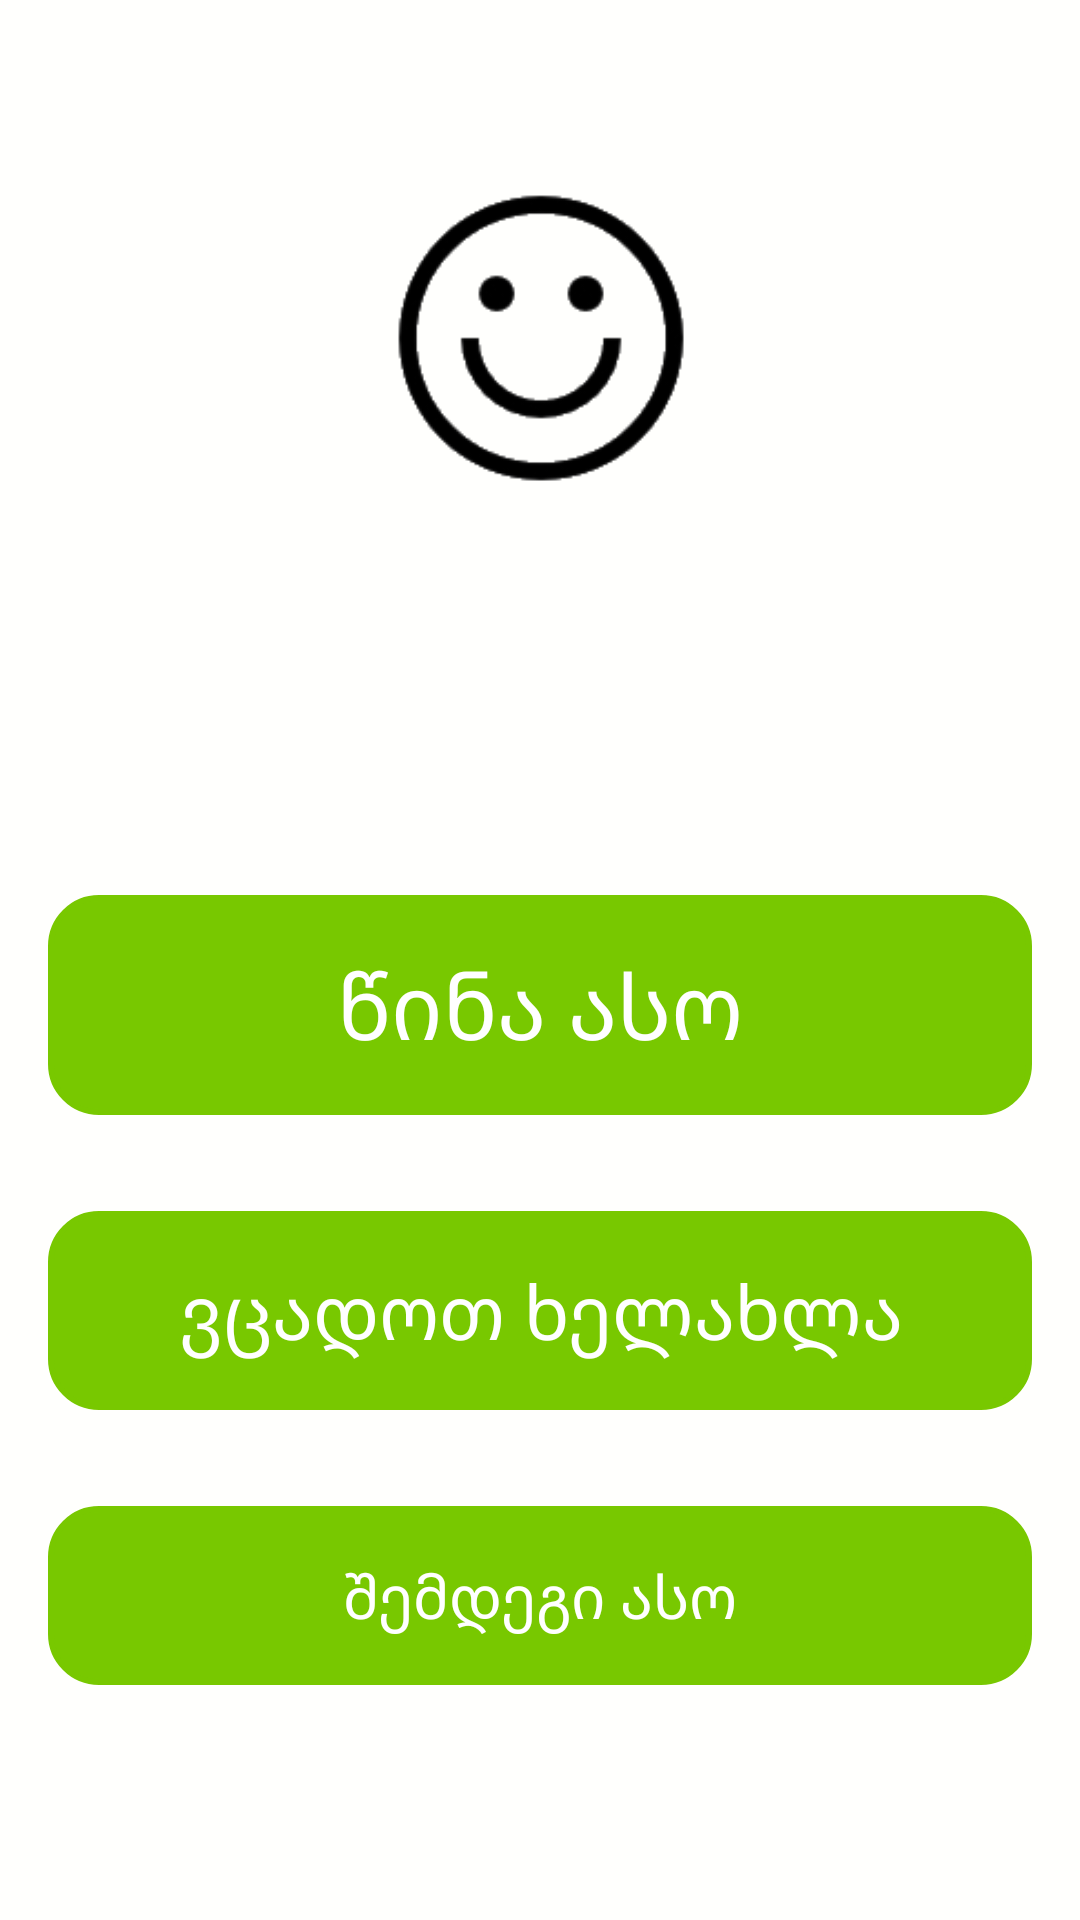

Icons on this 1080x1920 Android screen, each with the point to tap as point (x, y):
smile satisfactory: point (541, 338)
